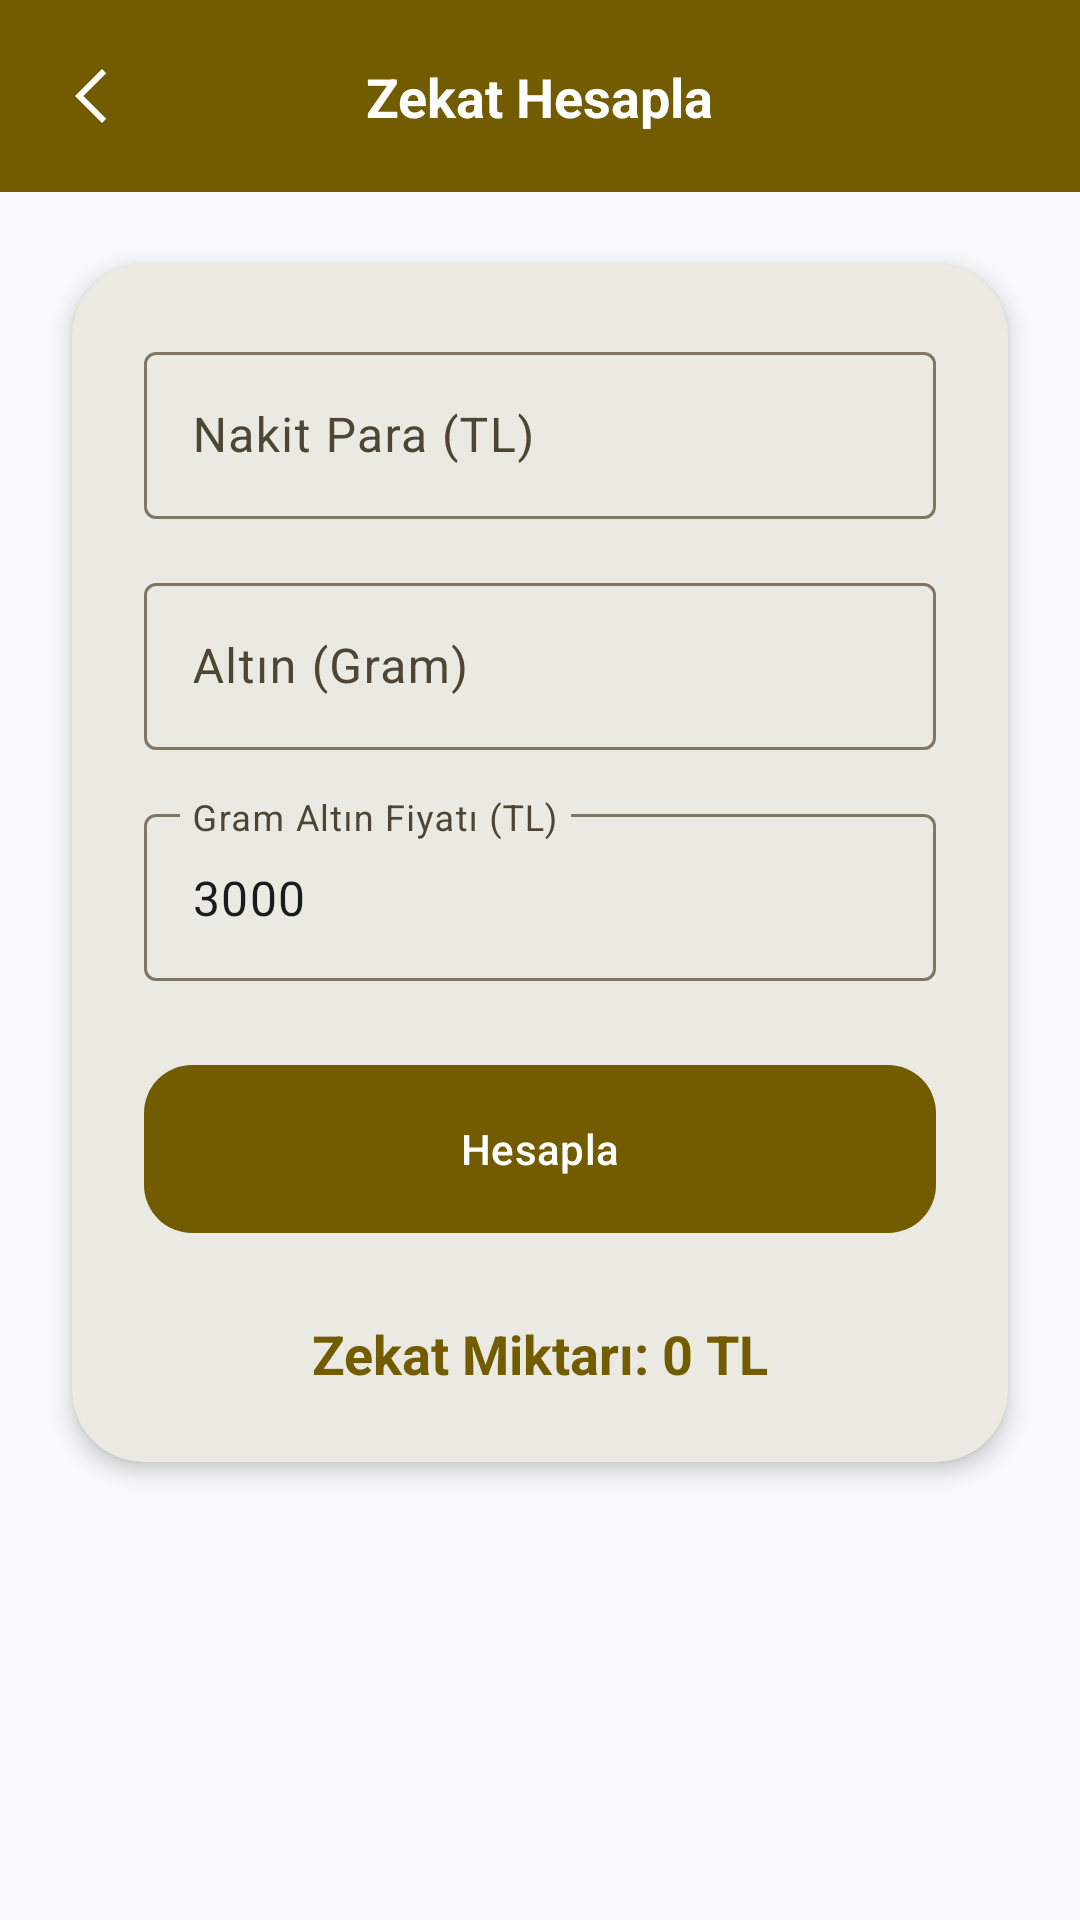

Where to tap for icons on this 1080w x 1920h app screen, as (x=x, y=y):
back arrow: (x=90, y=96)
